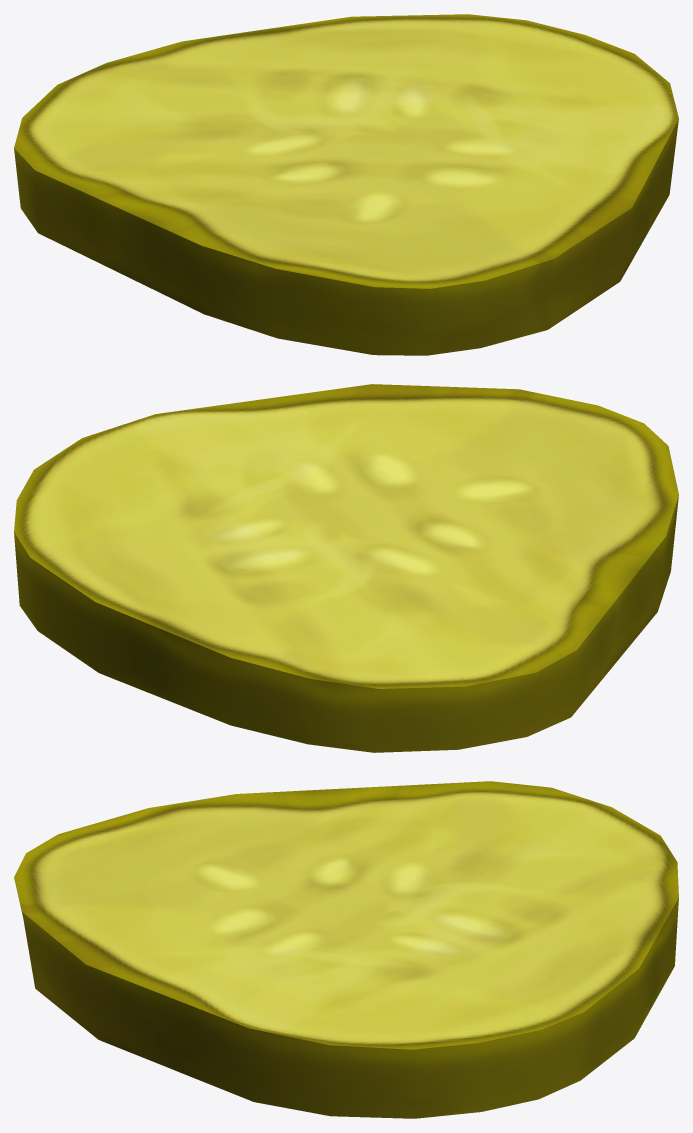
File: SM_PickleSlice.glb
3 views of the same model, one above another, from view 1: azimuth 30°, elevation 25°; view 2: azimuth 150°, elevation 25°; view 3: azimuth 270°, elevation 25° (orthographic). The views are drawn at different scales.
Visible parts, largest first — view 1: SM_PickleSlice; view 2: SM_PickleSlice; view 3: SM_PickleSlice.
Boxes of the visible parts, x1=… form: SM_PickleSlice: x1=14, y1=14, x2=678, y2=355; SM_PickleSlice: x1=14, y1=384, x2=678, y2=752; SM_PickleSlice: x1=14, y1=781, x2=678, y2=1118.
Size of the model in its own units: 0.0703 by 0.00924 by 0.0714.
1 material, 1 textured.
